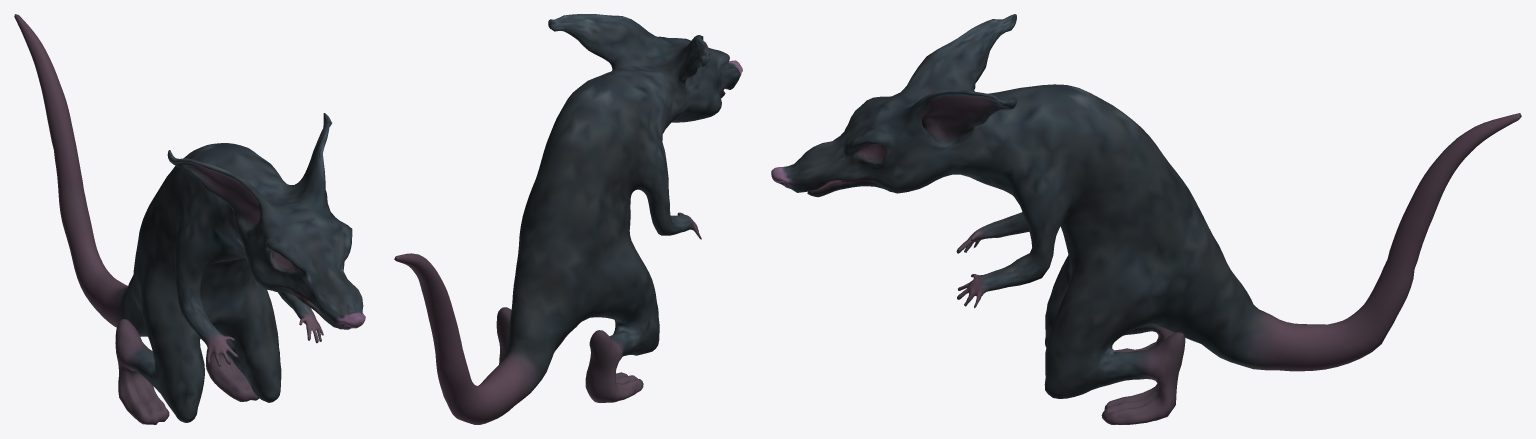
The model's file is rat.fbx.
The picture shows the model from 3 angles, left to right: view 1: azimuth 30°, elevation 25°; view 2: azimuth 150°, elevation 25°; view 3: azimuth 270°, elevation 25°; orthographic projection. The views are drawn at different scales.
Visible parts, largest first — view 1: rat; view 2: rat; view 3: rat.
Part boxes in pixels (x1,y1,x2,y2): rat: (14, 14, 365, 424); rat: (394, 14, 742, 424); rat: (771, 14, 1521, 424).
Bounding box in the file's own units: 1.3 × 2.44 × 4.87.
